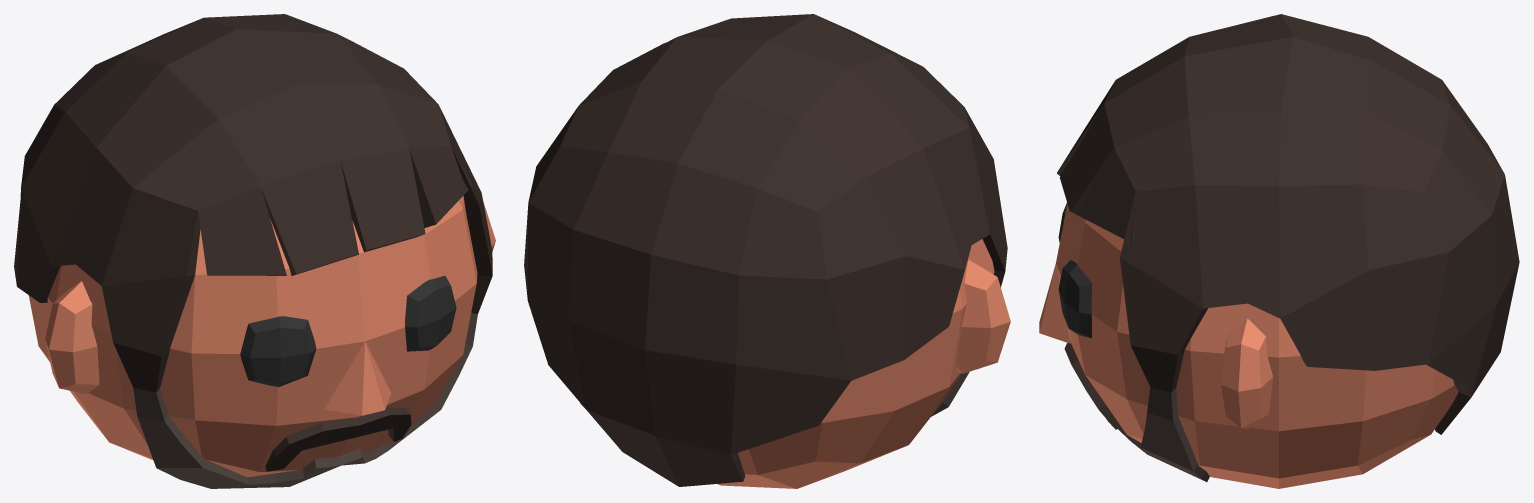
The model's file is MyHeadblend.glb.
3 views of the same model, side by side, from view 1: azimuth 30°, elevation 25°; view 2: azimuth 150°, elevation 25°; view 3: azimuth 270°, elevation 25° (orthographic). The views are drawn at different scales.
Parts seen in each view (by area): view 1: Cube.003, Cube, Cube.006, Cube.001, Cube.004, Cube.005, Cube.002; view 2: Cube.003, Cube, Cube.004; view 3: Cube.003, Cube, Cube.004, Cube.006, Cube.001, Cube.002, Cube.005.
Boxes of the visible parts, box(x1,y1,x2,y2) form: Cube.003: box(14, 14, 492, 392); Cube: box(28, 196, 477, 476); Cube.006: box(133, 313, 477, 488); Cube.001: box(240, 275, 456, 386); Cube.004: box(45, 202, 495, 393); Cube.005: box(265, 407, 411, 471); Cube.002: box(324, 341, 391, 415); Cube.003: box(524, 14, 1007, 486); Cube: box(580, 239, 994, 488); Cube.004: box(956, 259, 1010, 373); Cube.003: box(1057, 14, 1519, 434); Cube: box(1056, 204, 1458, 488); Cube.004: box(1221, 318, 1272, 428); Cube.006: box(1118, 387, 1209, 481); Cube.001: box(1058, 202, 1091, 338); Cube.002: box(1039, 263, 1070, 343); Cube.005: box(1064, 342, 1120, 429).
Size of the model in its own units: 0.1139 by 0.105 by 0.1077.
